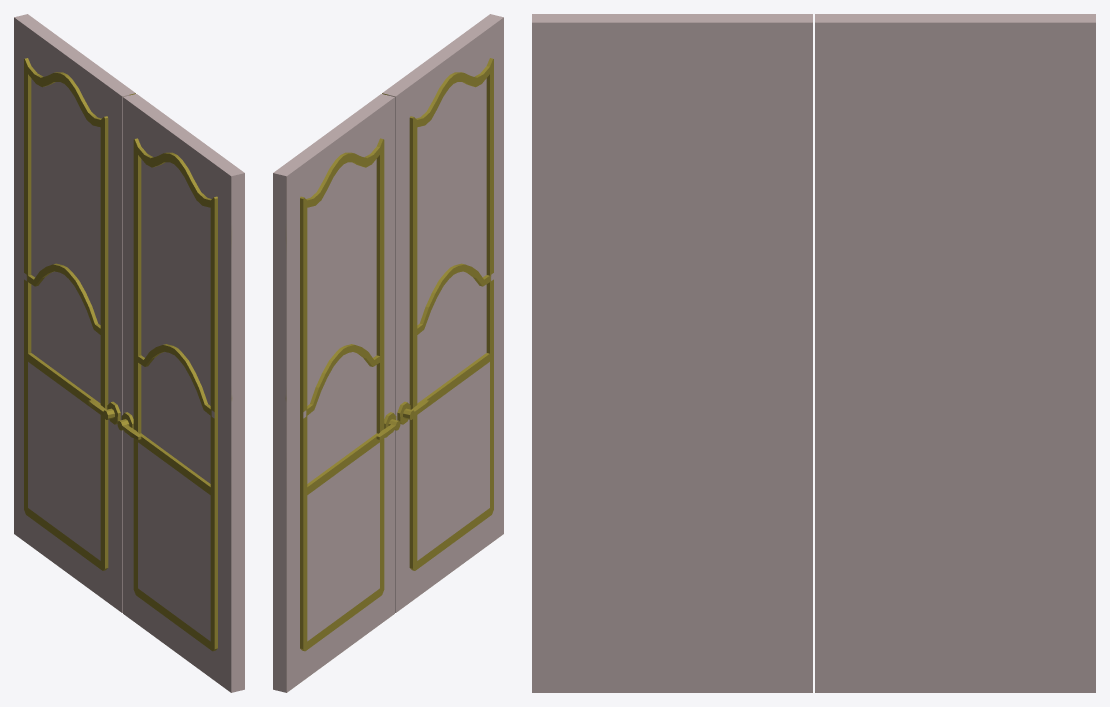
Rendered from BgMD_room_normal_door (2).fbx.
The picture shows the model from 3 angles, left to right: view 1: azimuth 30°, elevation 25°; view 2: azimuth 150°, elevation 25°; view 3: azimuth 270°, elevation 25°; orthographic projection. The views are drawn at different scales.
Visible parts, largest first — view 1: polySurface22; view 2: polySurface22; view 3: polySurface22.
Boxes of the visible parts, bbox=[...] form: polySurface22: bbox=[14, 14, 244, 692]; polySurface22: bbox=[273, 14, 503, 692]; polySurface22: bbox=[532, 14, 1095, 692].
Bounding box in the file's own units: 7.92 × 160 × 122.
Materials: 1 (1 with a texture image).
